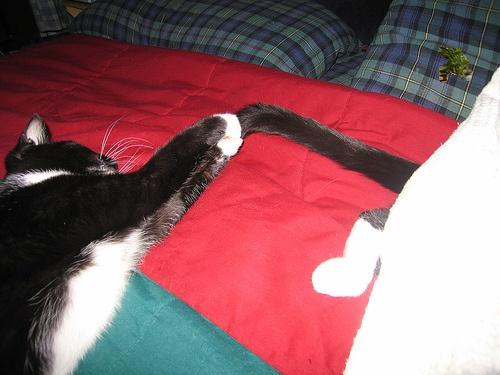tampered: (439, 48, 472, 83)
